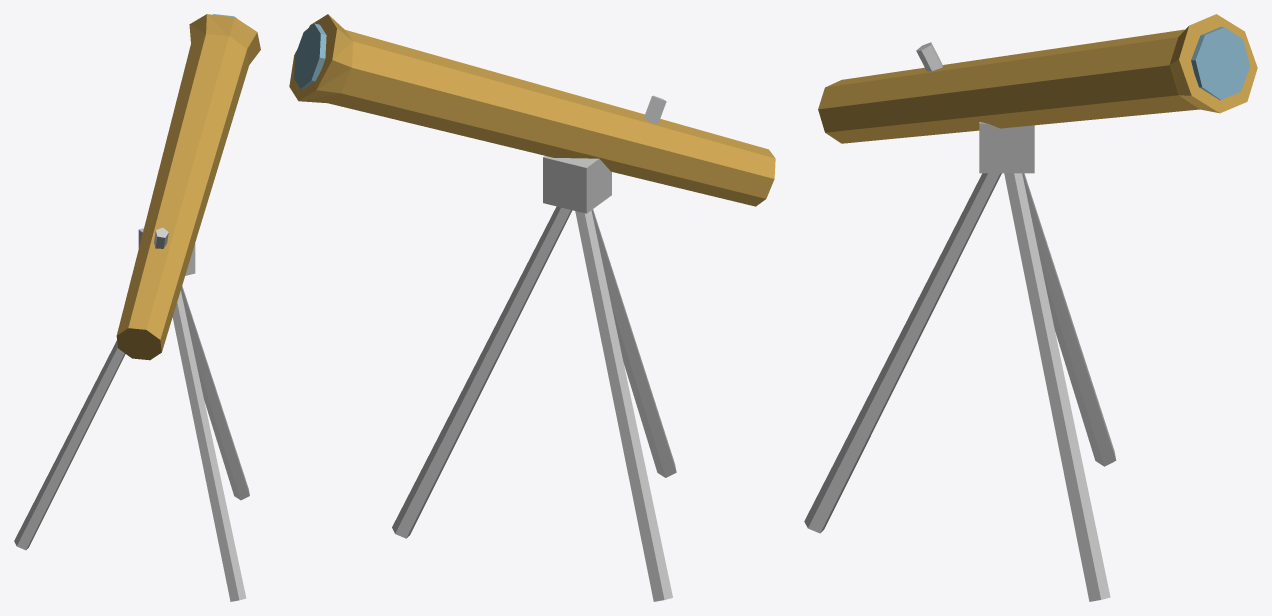
File: telescope.obj
The picture shows the model from 3 angles, left to right: view 1: azimuth 30°, elevation 25°; view 2: azimuth 150°, elevation 25°; view 3: azimuth 270°, elevation 25°; orthographic projection. The views are drawn at different scales.
Visible parts, largest first — view 1: telescope; view 2: telescope; view 3: telescope.
Part boxes in pixels (x1,y1,x2,y2): telescope: (14,14,260,601); telescope: (289,14,775,601); telescope: (804,14,1257,601).
Size of the model in its own units: 0.9276 by 1.43 by 0.9873.
